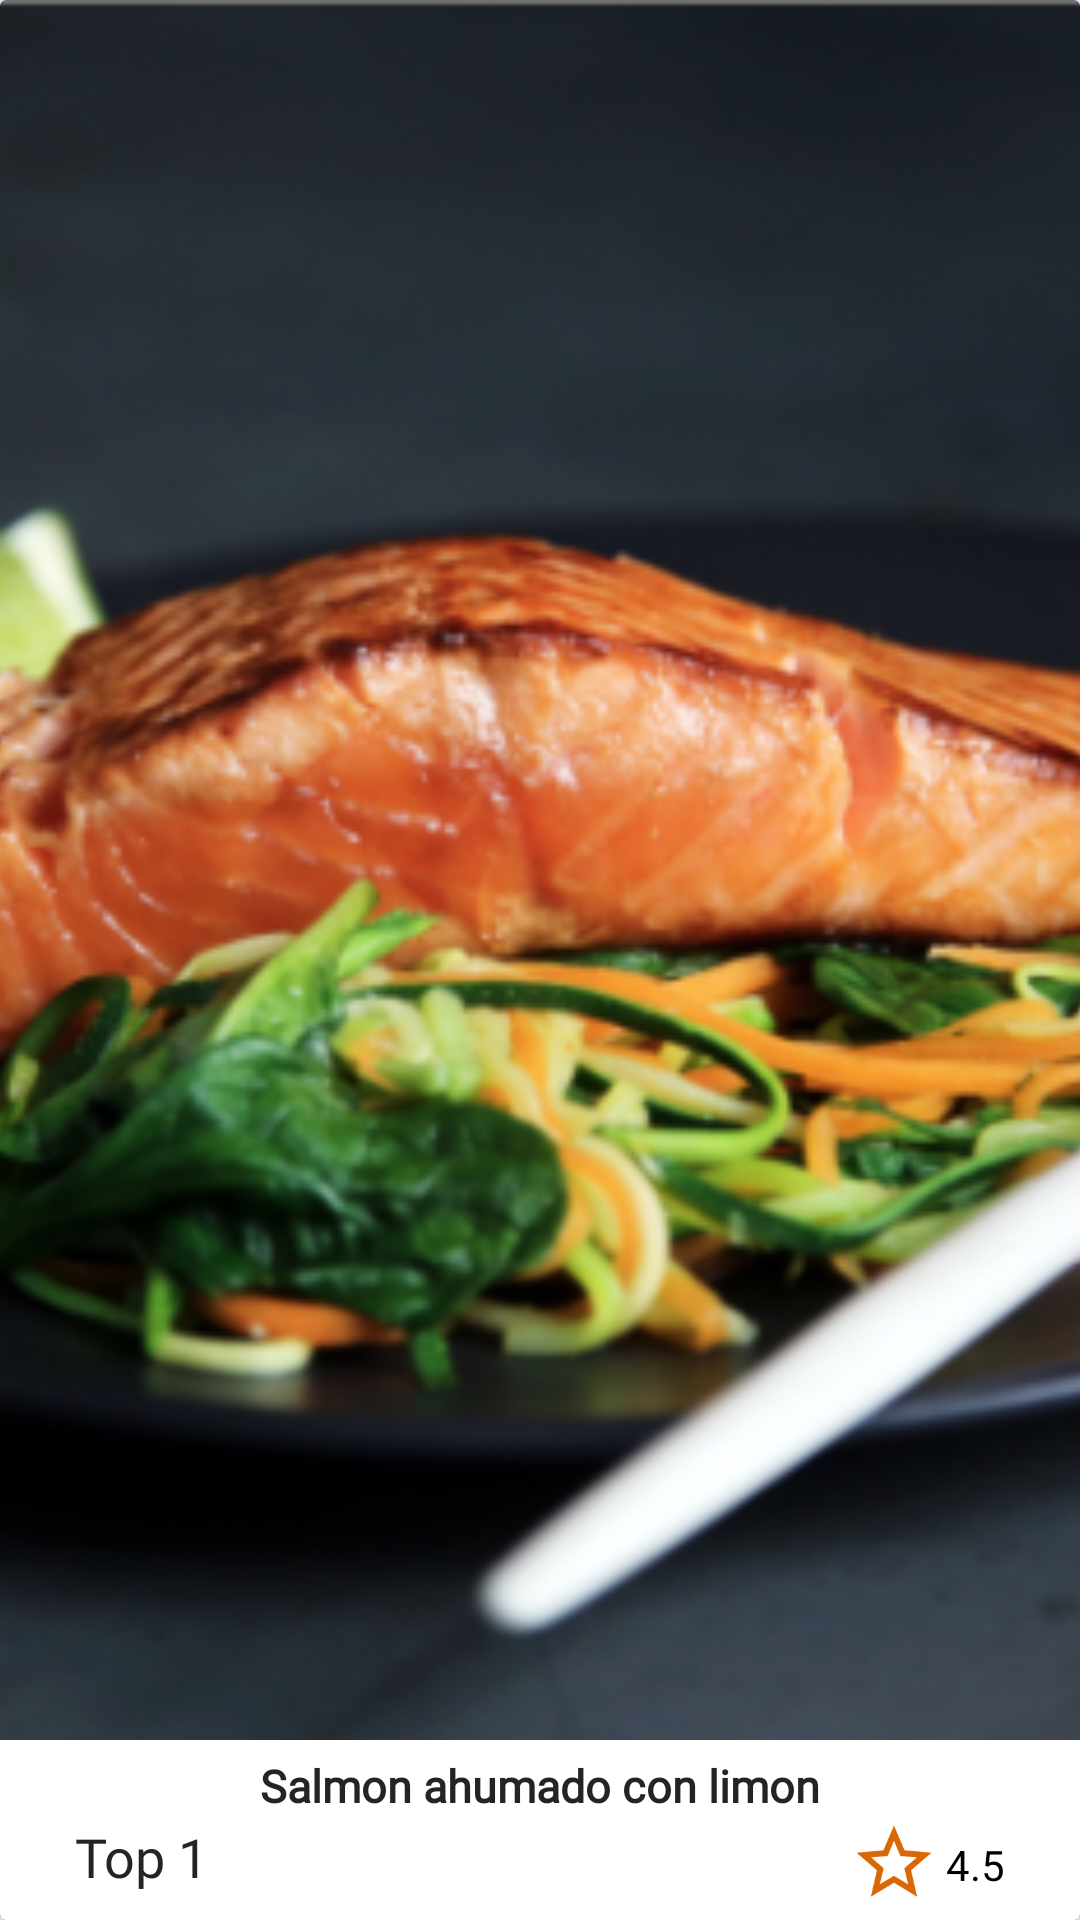

Where icons sit on this 1080 x 1920 app screen, as box(x1, y1, x2, y2):
star border: box(857, 1826, 931, 1897)
